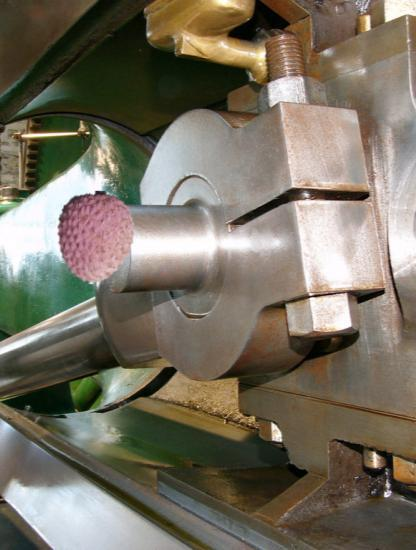Lychee: (49, 191, 142, 284)
